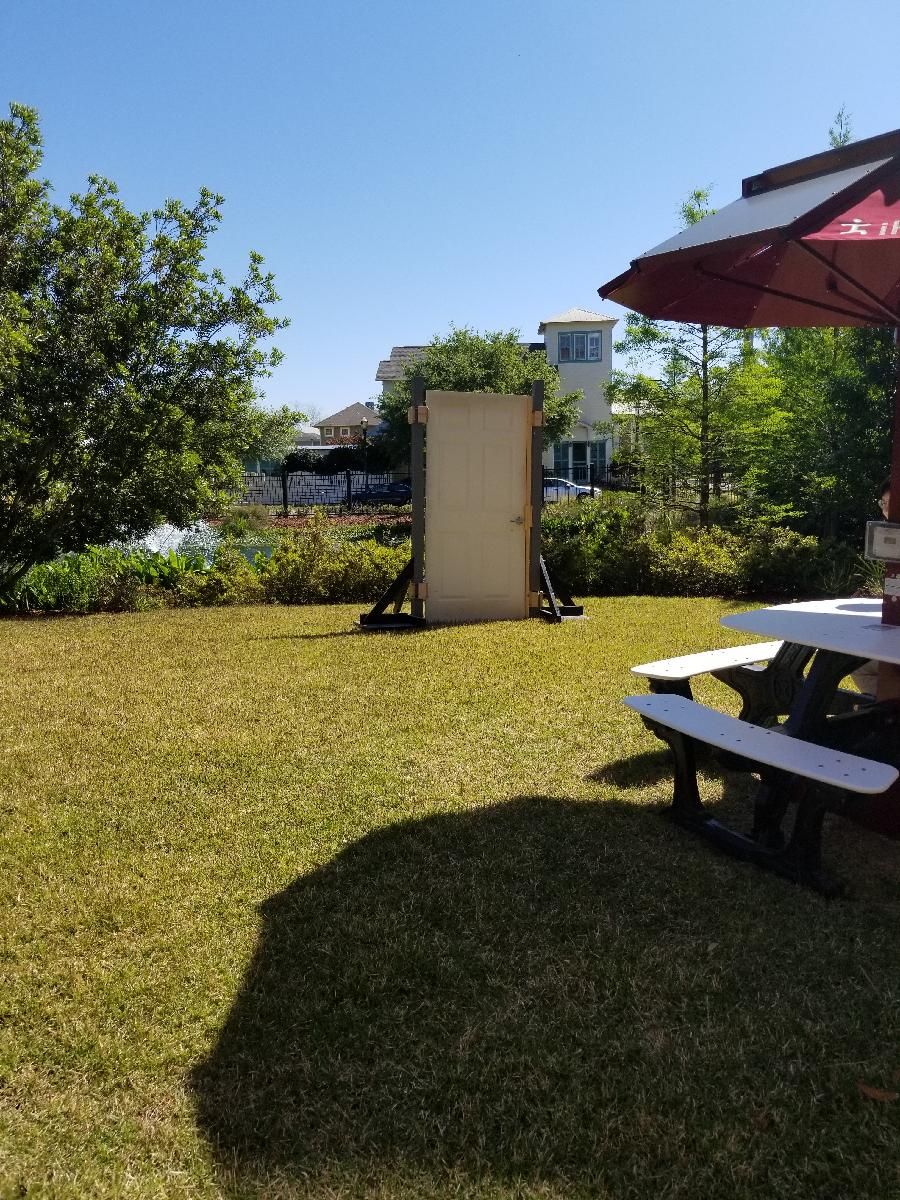door: (421, 383, 530, 629)
doorHandle: (512, 514, 526, 532)
